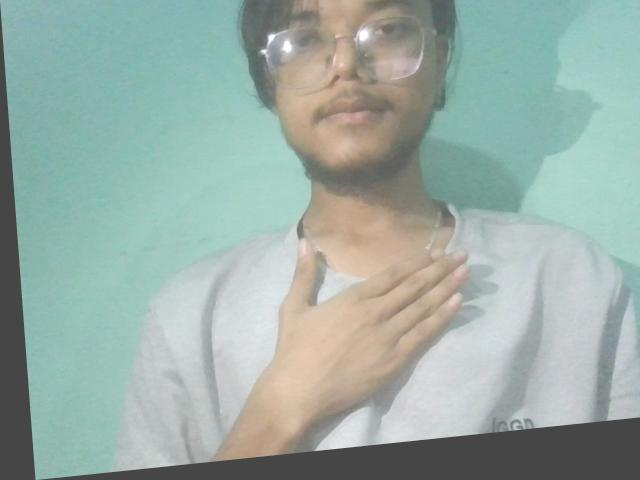Please: (189, 195, 529, 451)
